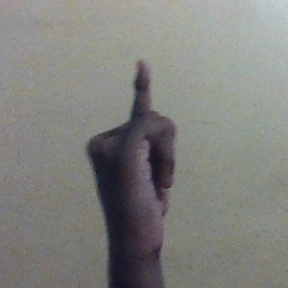I: (80, 58, 193, 252)
